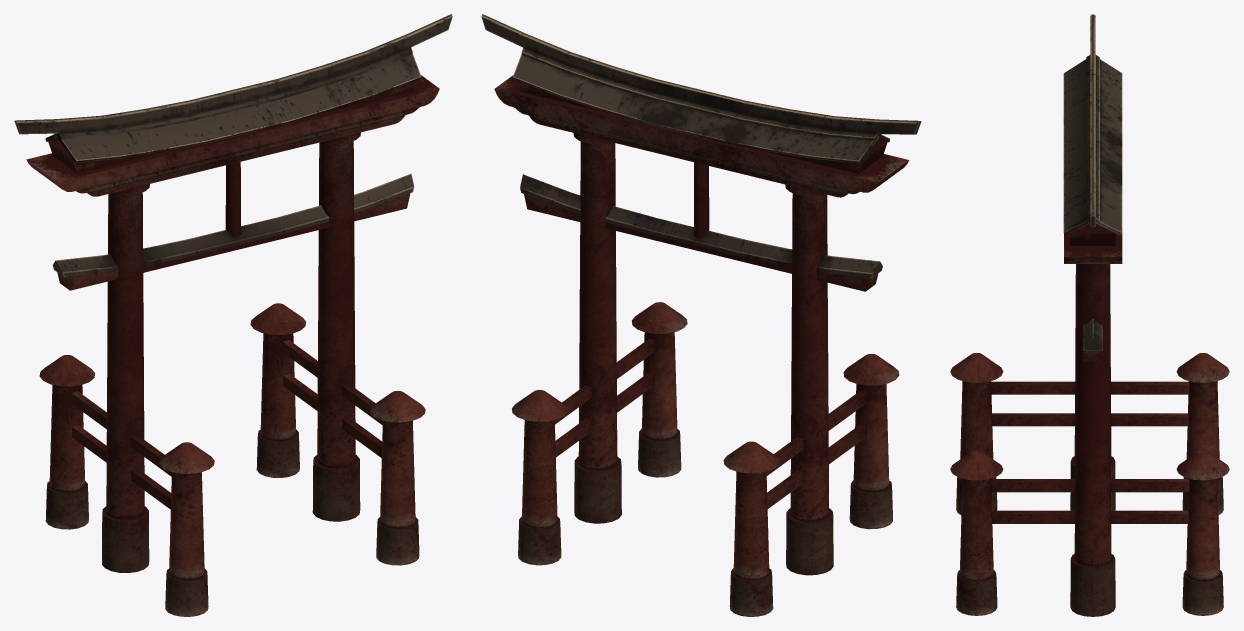
File: japanese_torii_gate.glb
3 renders of one model, left to right at view 1: azimuth 30°, elevation 25°; view 2: azimuth 150°, elevation 25°; view 3: azimuth 270°, elevation 25°, orthographic. The views are drawn at different scales.
Parts seen in each view (by area): view 1: Object_2; view 2: Object_2; view 3: Object_2.
Boxes of the visible parts, x1,y1,x2,y2 form: Object_2: (14, 14, 452, 616); Object_2: (481, 14, 921, 616); Object_2: (950, 14, 1229, 616).
Size of the model in its own units: 3.23 by 3.32 by 1.89.
Materials: 1 (1 with a texture image).
